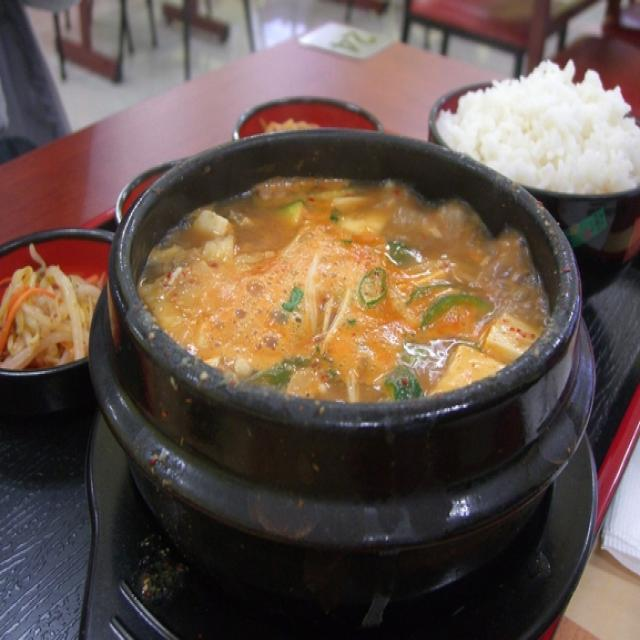汤锅炖物: (105, 108, 579, 501)
